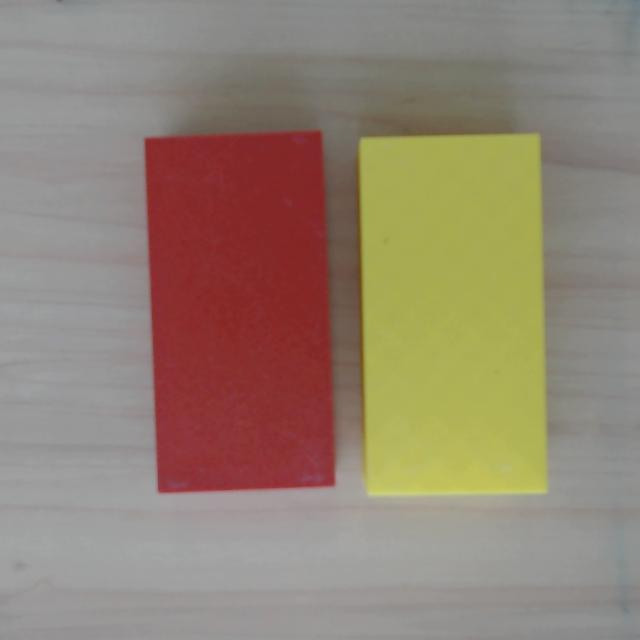Balok-Kuning-1005025: (357, 134, 548, 496)
Balok-Merah-1005025: (145, 131, 336, 493)
